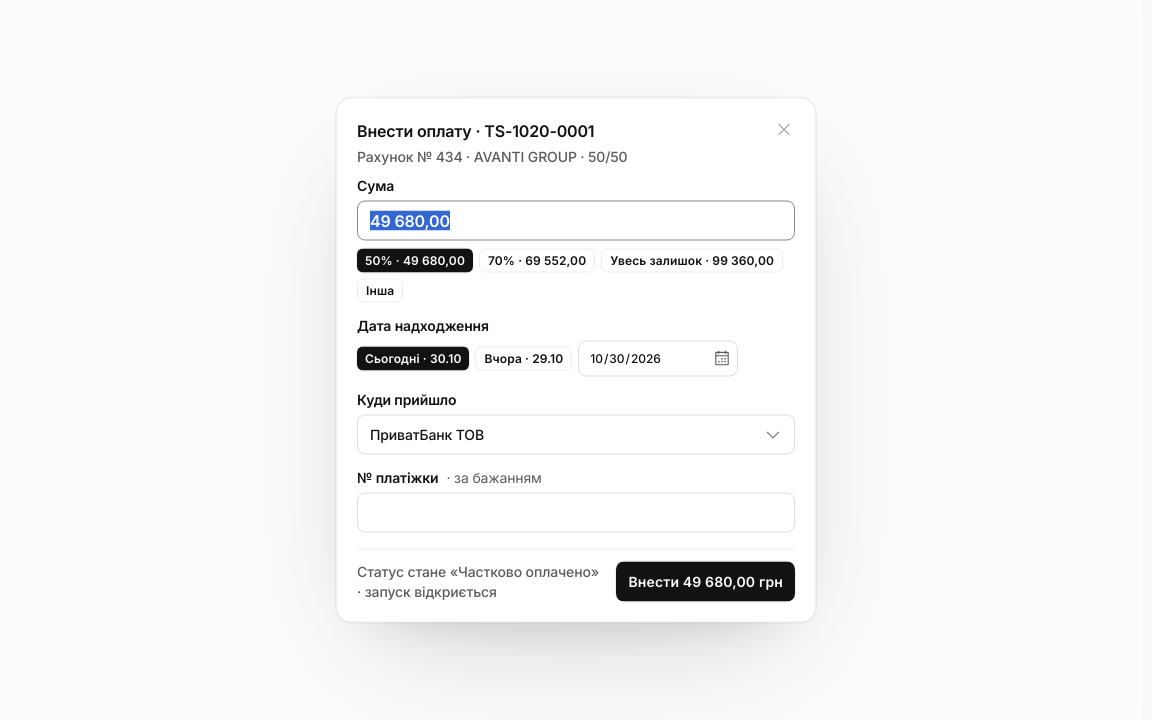
Test: віконце «Внести оплату» › «Інша» чистить поле, і без суми кнопка неактивна
Click the button "Інша" at (380, 290), box [357,278,403,302]
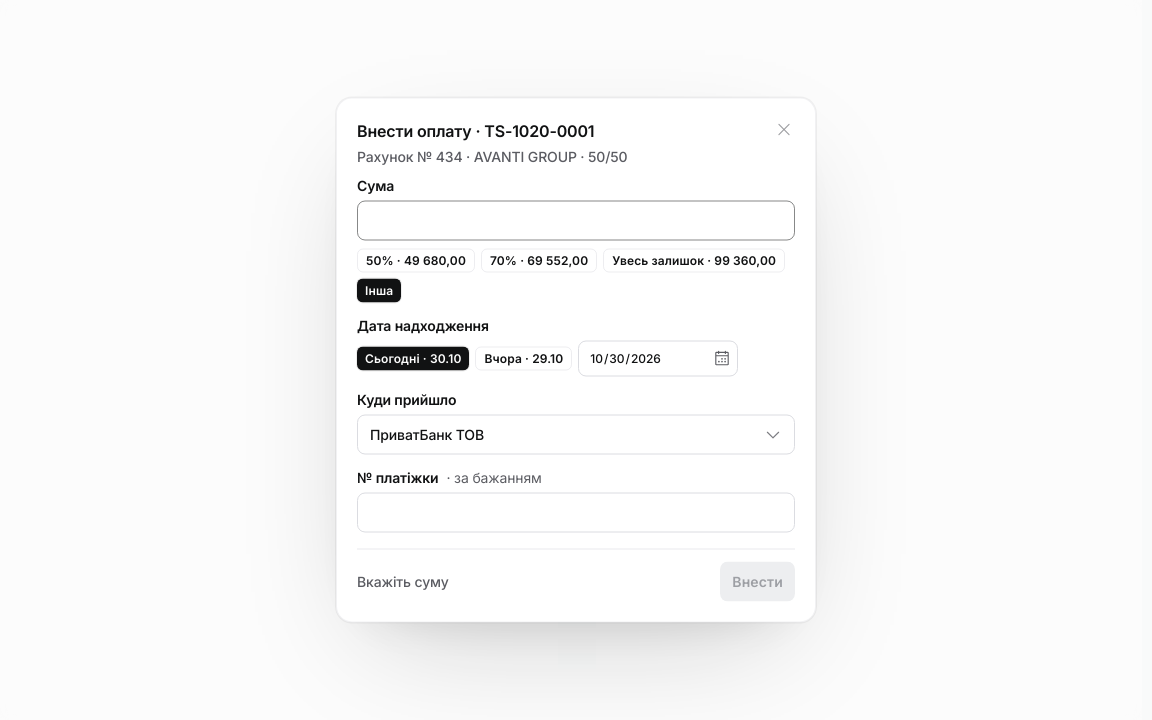
Result: the field labelled "Сума" is empty at [357,200,795,240]
Result: the button "Внести" is disabled at [720,562,795,602]
